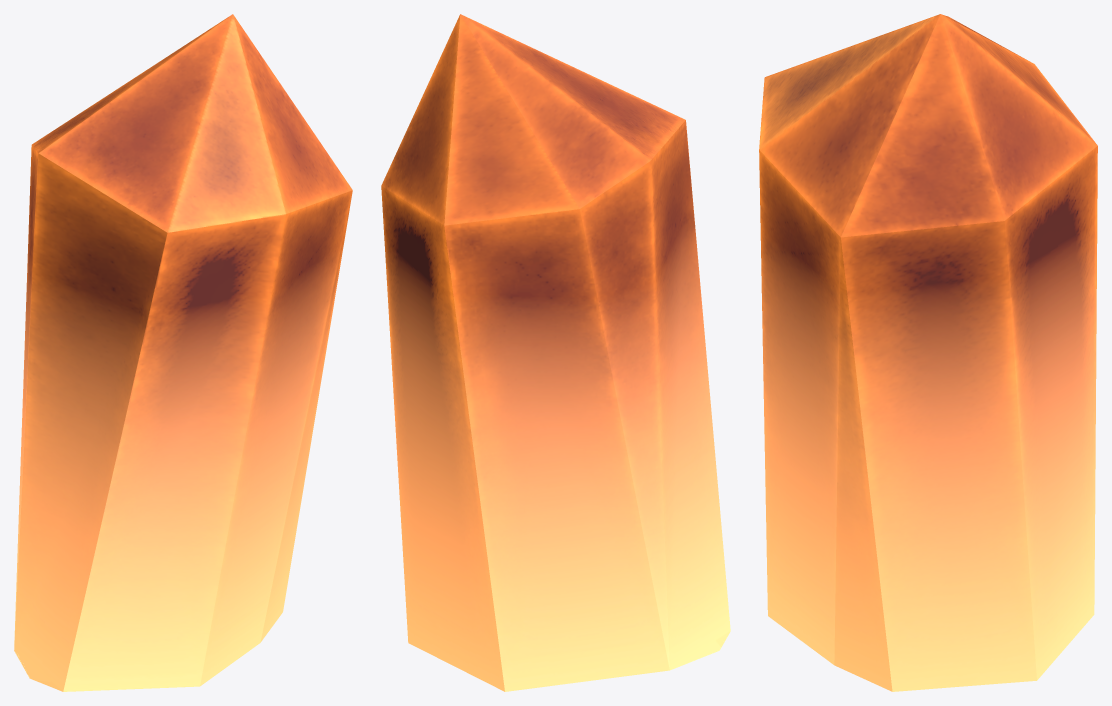
Rendered from crystal_piece_001.fbx.
3 views of the same model, side by side, from view 1: azimuth 30°, elevation 25°; view 2: azimuth 150°, elevation 25°; view 3: azimuth 270°, elevation 25° (orthographic). The views are drawn at different scales.
Parts seen in each view (by area): view 1: crystal_piece_001; view 2: crystal_piece_001; view 3: crystal_piece_001.
Part boxes in pixels (bbox=[...]): crystal_piece_001: bbox=[14, 14, 352, 691]; crystal_piece_001: bbox=[381, 14, 730, 691]; crystal_piece_001: bbox=[759, 14, 1097, 691].
Size of the model in its own units: 0.8444 by 1.56 by 0.7236.
1 material, 1 textured.
